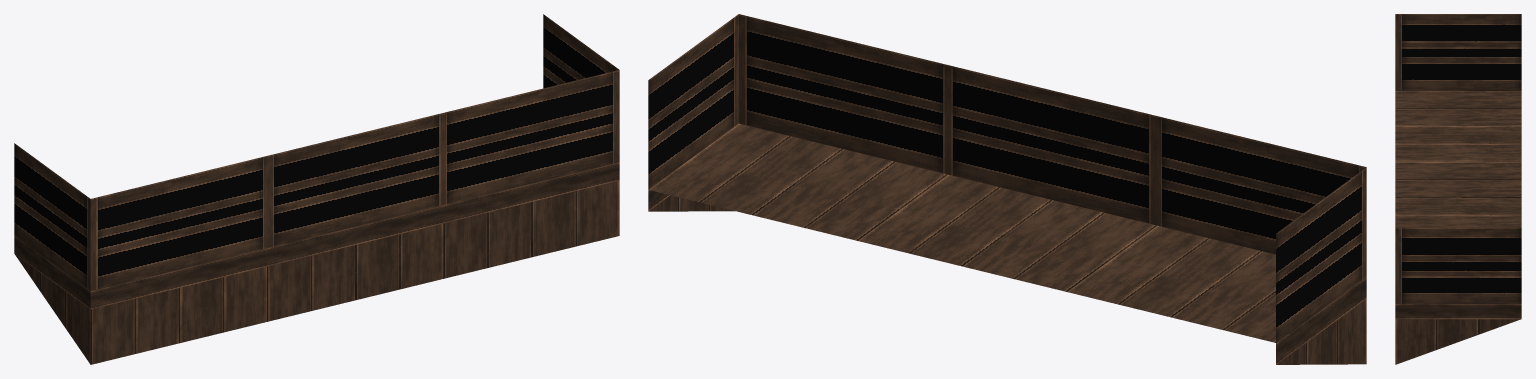
The model's file is house_balcony_6x1.glb.
3 renders of one model, left to right at view 1: azimuth 30°, elevation 25°; view 2: azimuth 150°, elevation 25°; view 3: azimuth 270°, elevation 25°, orthographic. The views are drawn at different scales.
Visible parts, largest first — view 1: house_balcony_6x1; view 2: house_balcony_6x1; view 3: house_balcony_6x1.
Boxes of the visible parts, <box> form: house_balcony_6x1: <box>14,14,619,364</box>; house_balcony_6x1: <box>648,14,1366,364</box>; house_balcony_6x1: <box>1395,14,1521,364</box>.
Bounding box in the file's own units: 6 × 1.8 × 1.5.
2 materials, 2 textured.
